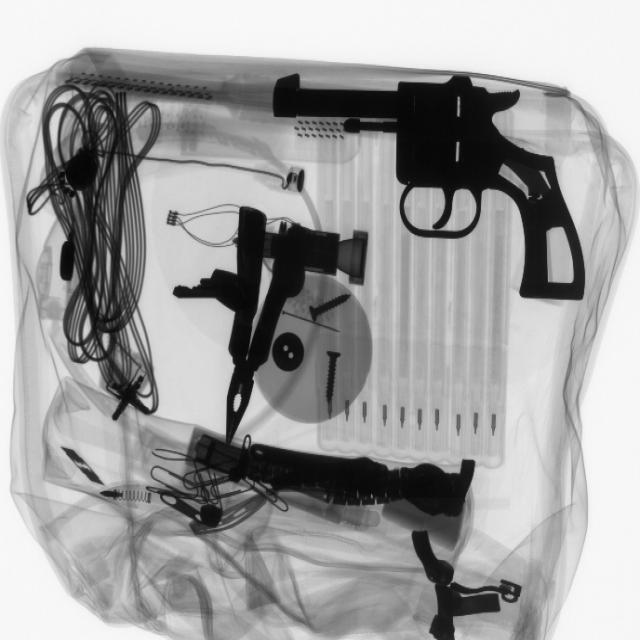BLADE: (61, 444, 106, 495)
GUN: (266, 77, 581, 310)
SCREW: (308, 343, 353, 415), (301, 288, 362, 334)
